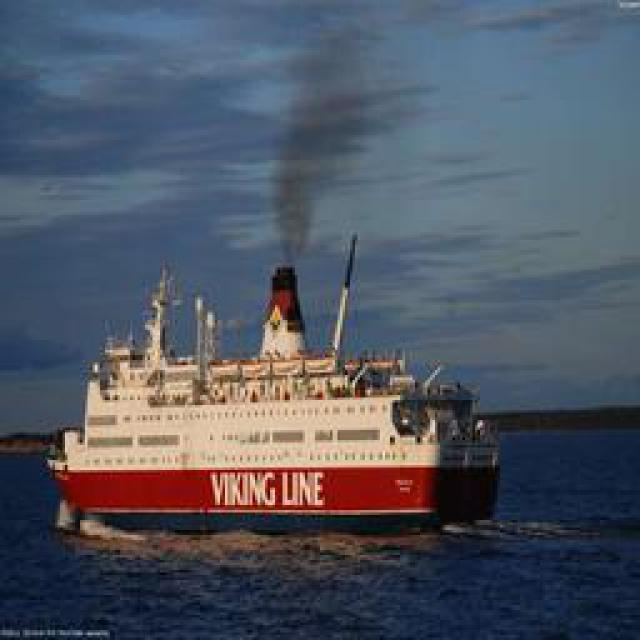Ship: (55, 241, 485, 544)
